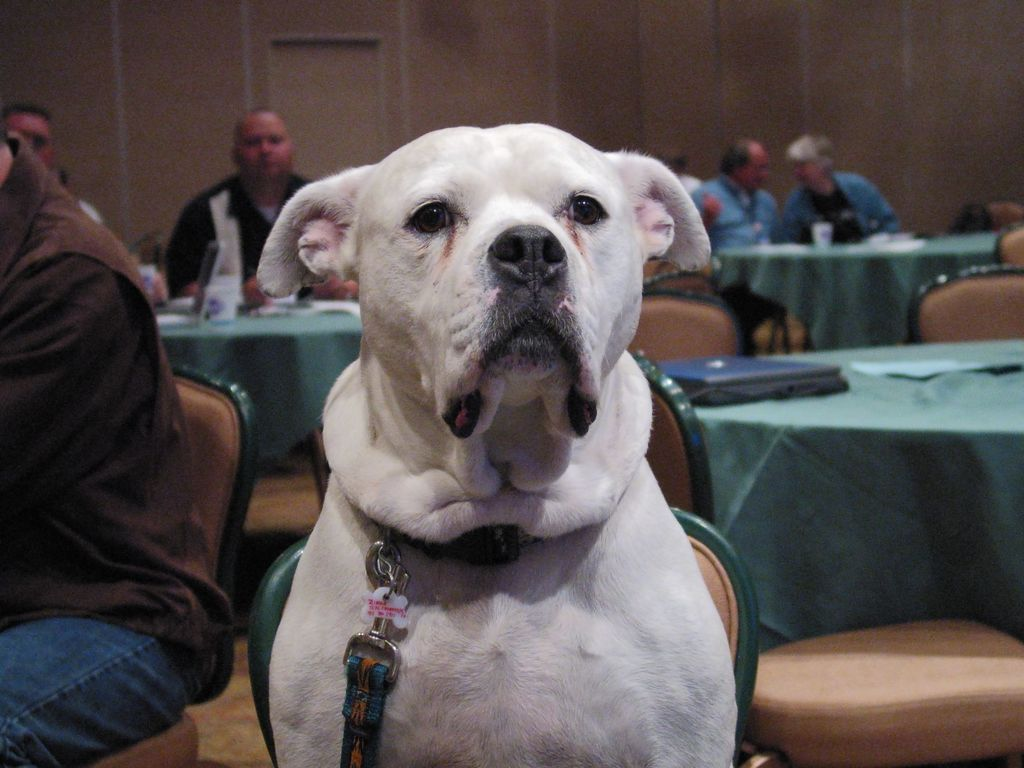Person: (168, 108, 321, 301), (689, 140, 786, 357), (2, 105, 103, 224), (658, 150, 705, 192)
